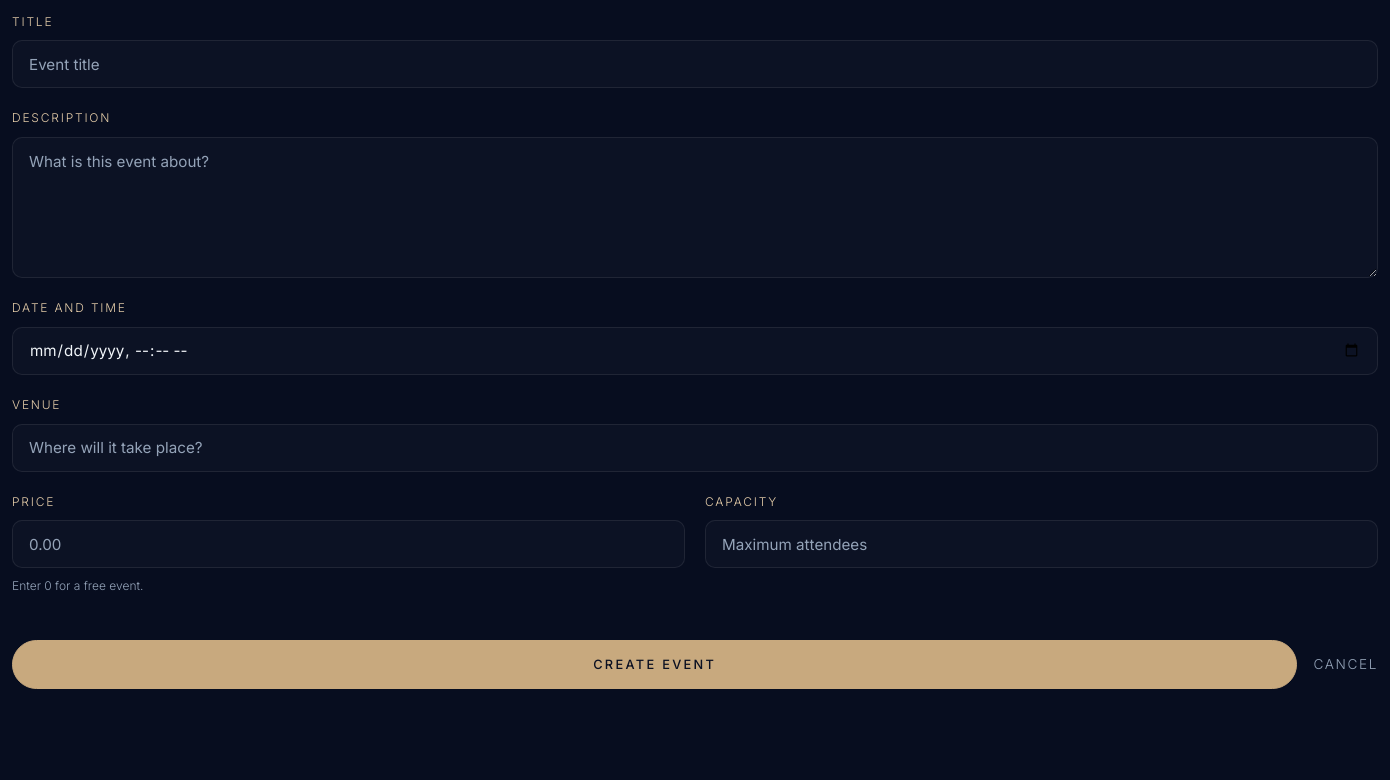
Test: EMS-FR-07 EventForm › a past date is rejected
The image size is (1390, 780).
Type "Tech Meetup" into the field labelled "Title".
click(695, 64); type("Tech Meetup")  # box [12, 40, 1378, 88]
Type "Monthly meetup" into the text box labelled "Description".
click(695, 208); type("Monthly meetup")  # box [12, 137, 1378, 278]
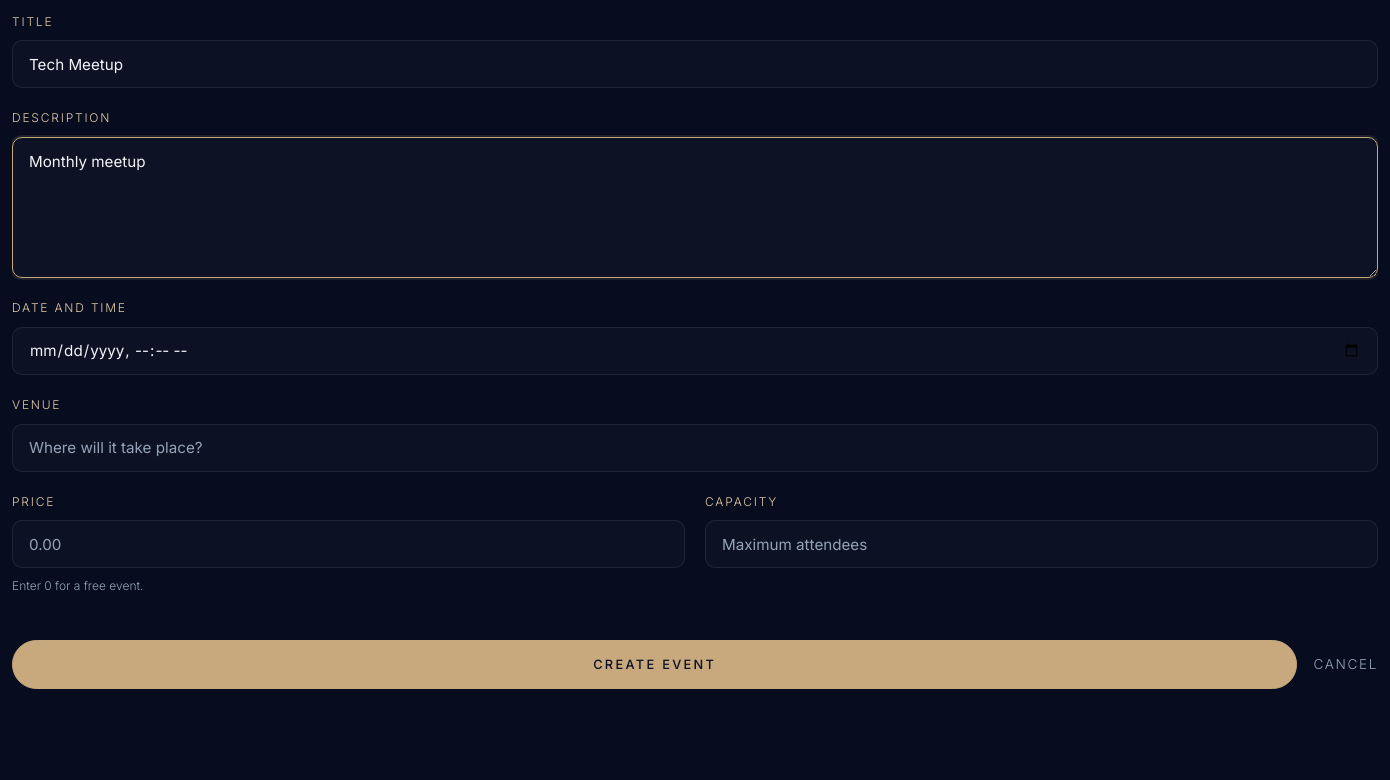
Type "2020-01-01T10:00" into the field labelled "Date and time".
click(695, 351); type("2020-01-01T10:00")  # box [12, 327, 1378, 375]
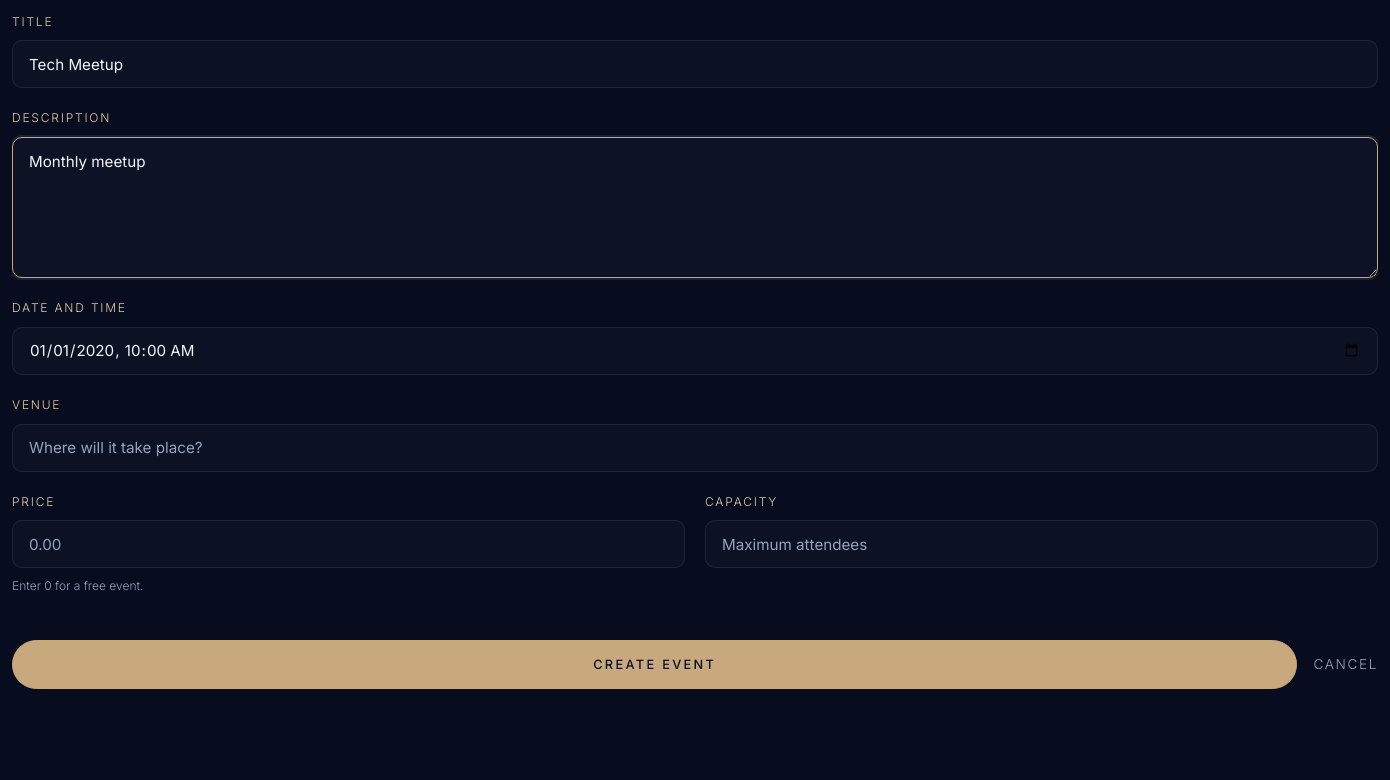
Type "Hall A" into the field labelled "Venue".
click(695, 448); type("Hall A")  # box [12, 424, 1378, 472]
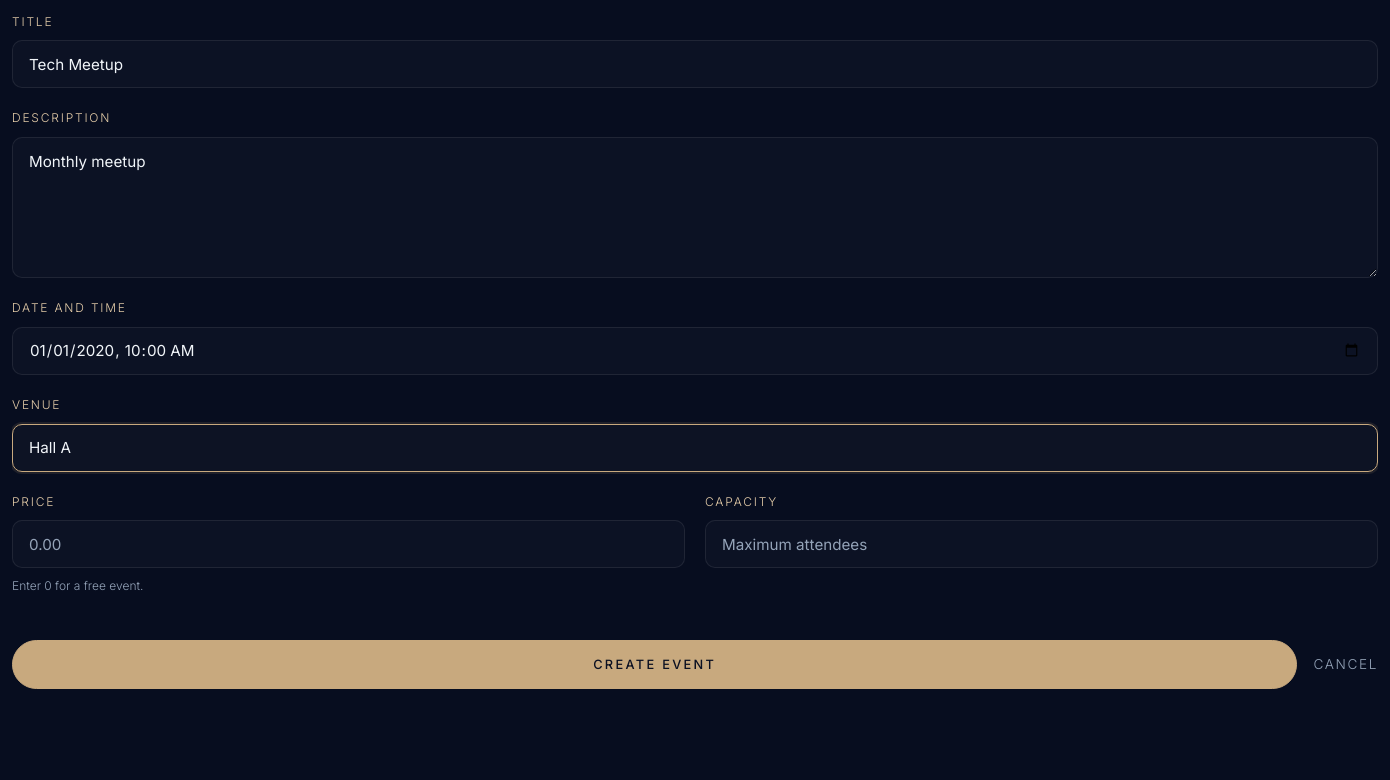
Type "99.5" into the number field labelled "Price".
click(348, 544); type("99.5")  # box [12, 520, 685, 568]
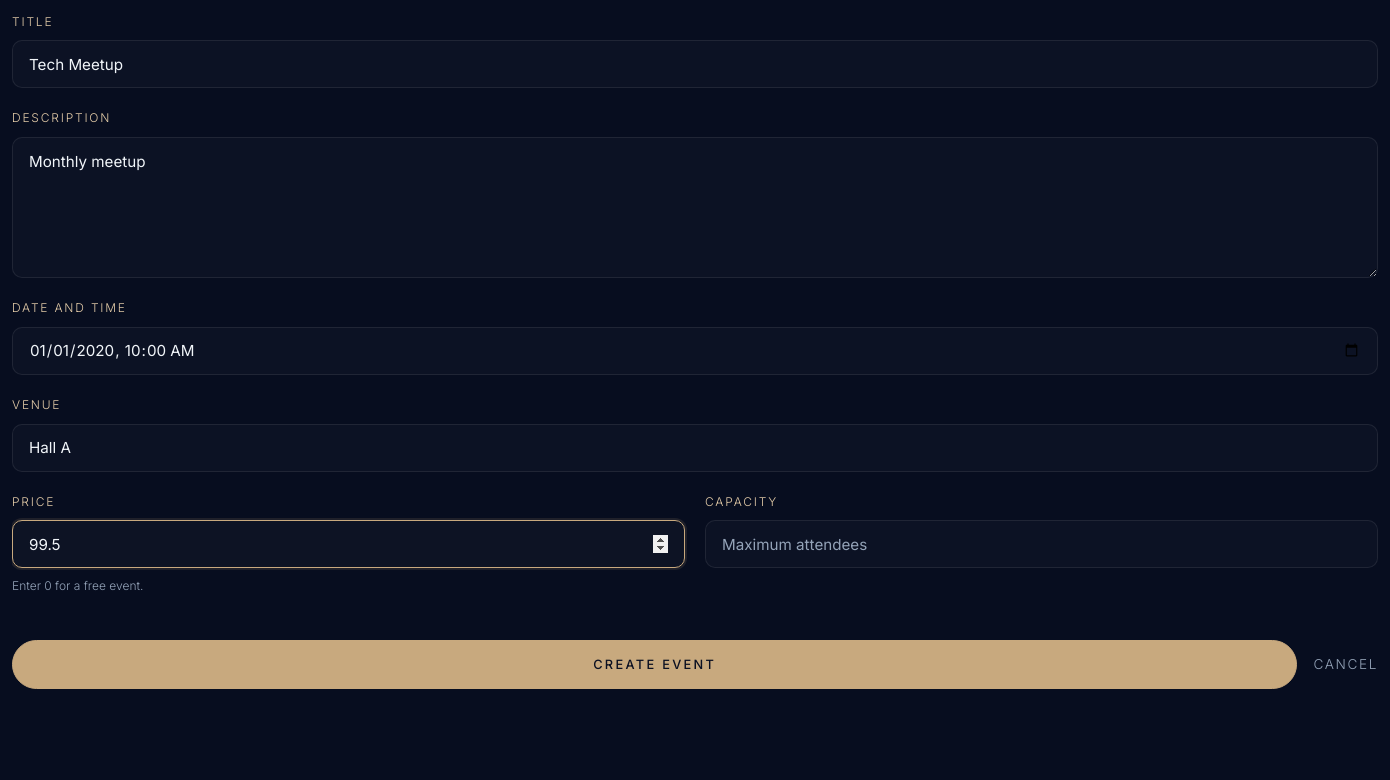
Type "100" into the number field labelled "Capacity".
click(1042, 544); type("100")  # box [705, 520, 1378, 568]
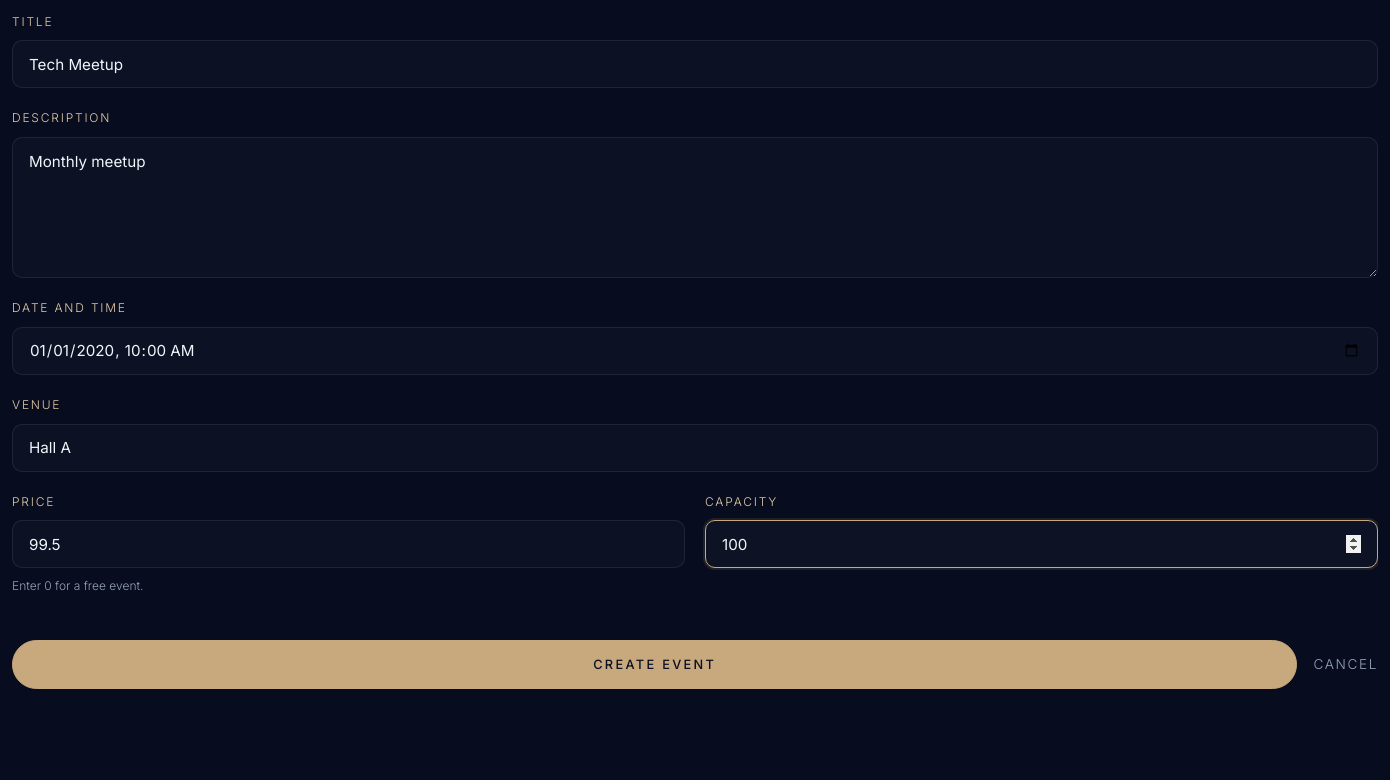
Click the button "Create event".
click(655, 665)  # box [12, 640, 1297, 689]
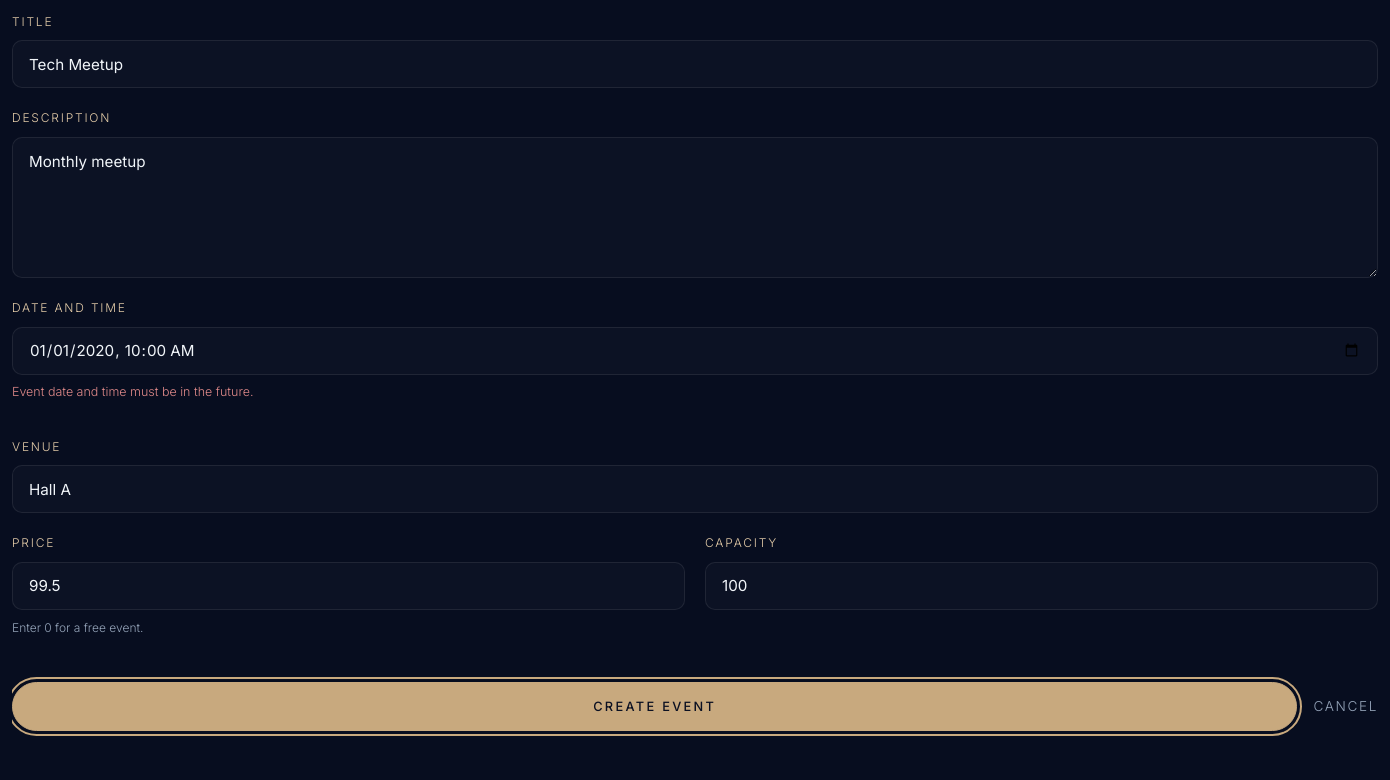
Result: the text "Event date and time must be in the future." is shown at [12, 384, 254, 399]
